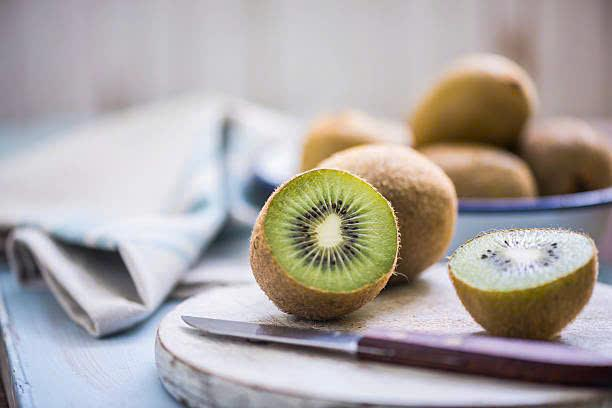kiwi: (254, 173, 405, 312), (445, 233, 612, 338), (327, 144, 468, 256)
